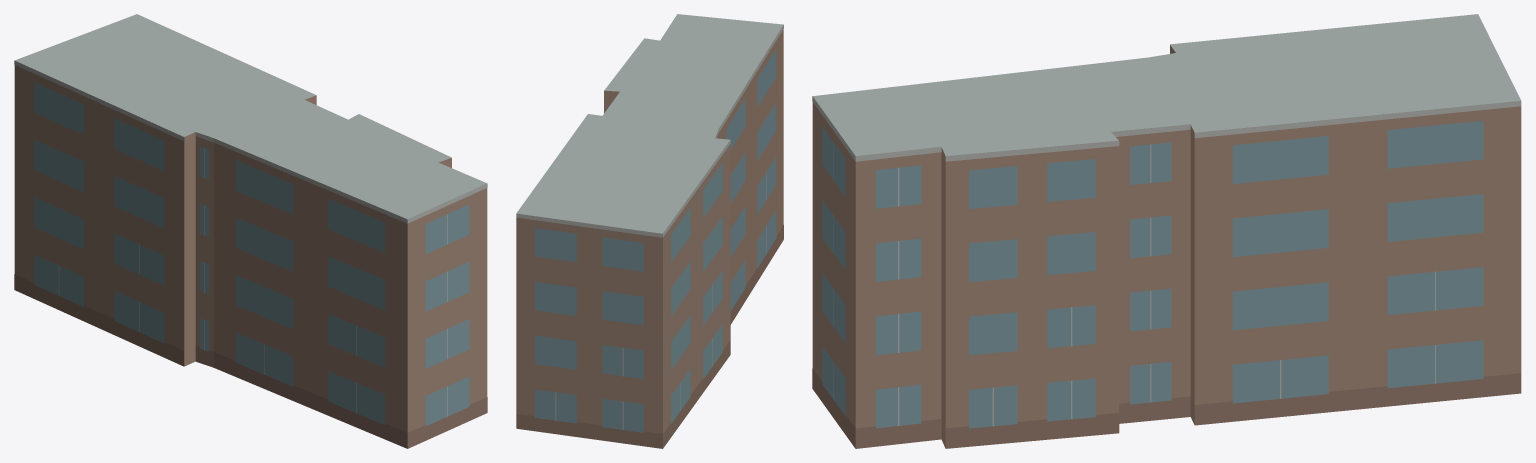
File: survey-upis-32748969.glb
The picture shows the model from 3 angles, left to right: view 1: azimuth 30°, elevation 25°; view 2: azimuth 150°, elevation 25°; view 3: azimuth 270°, elevation 25°; orthographic projection. The views are drawn at different scales.
Parts seen in each view (by area): view 1: survey-upis-32748969.tmp; view 2: survey-upis-32748969.tmp; view 3: survey-upis-32748969.tmp.
Part boxes in pixels (bbox=[...]): survey-upis-32748969.tmp: bbox=[14, 14, 487, 448]; survey-upis-32748969.tmp: bbox=[516, 14, 783, 448]; survey-upis-32748969.tmp: bbox=[812, 14, 1521, 448].
Bounding box in the file's own units: 13.65 × 13.08 × 28.72.
